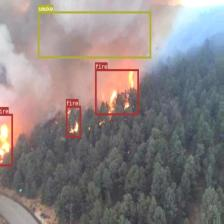fire: (94, 68, 138, 114), (0, 113, 13, 166), (66, 106, 81, 138)
smoke: (38, 11, 151, 58)
